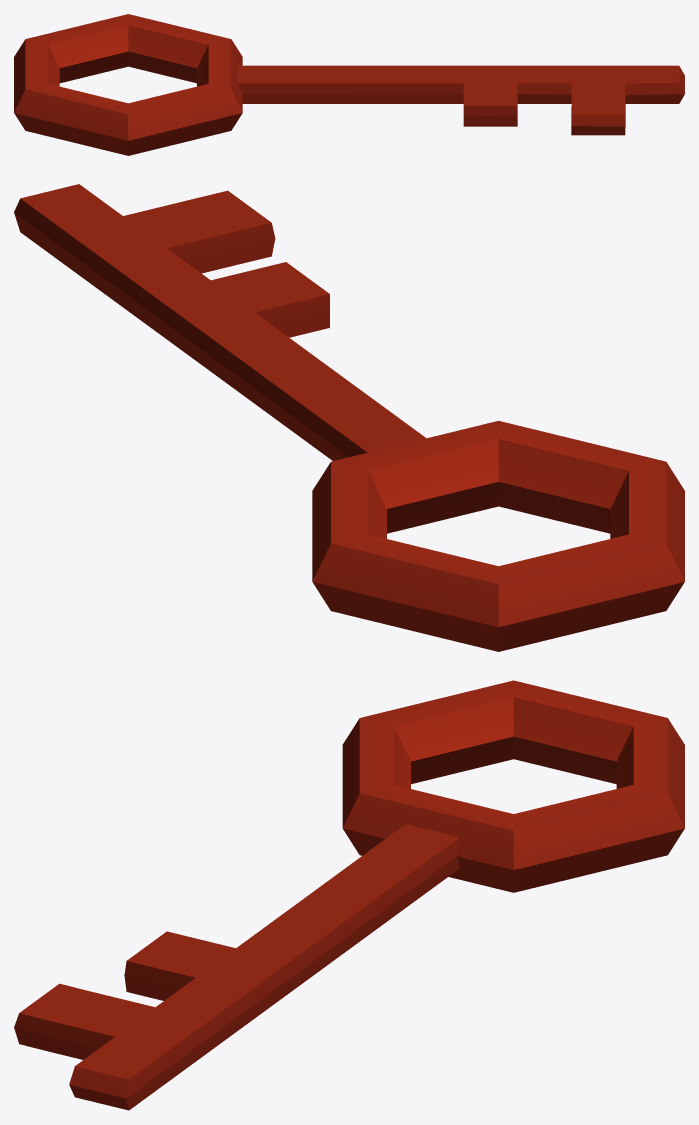
The model's file is Obj_Key_Normal_A.glb.
3 views of the same model, one above another, from view 1: azimuth 30°, elevation 25°; view 2: azimuth 150°, elevation 25°; view 3: azimuth 270°, elevation 25° (orthographic). The views are drawn at different scales.
Parts seen in each view (by area): view 1: Torus; view 2: Torus; view 3: Torus.
Part boxes in pixels (x1,y1,x2,y2): Torus: [14, 14, 684, 155]; Torus: [14, 184, 684, 651]; Torus: [14, 680, 684, 1110].
Size of the model in its own units: 5.92 by 0.433 by 4.24.
1 material, 1 textured.
